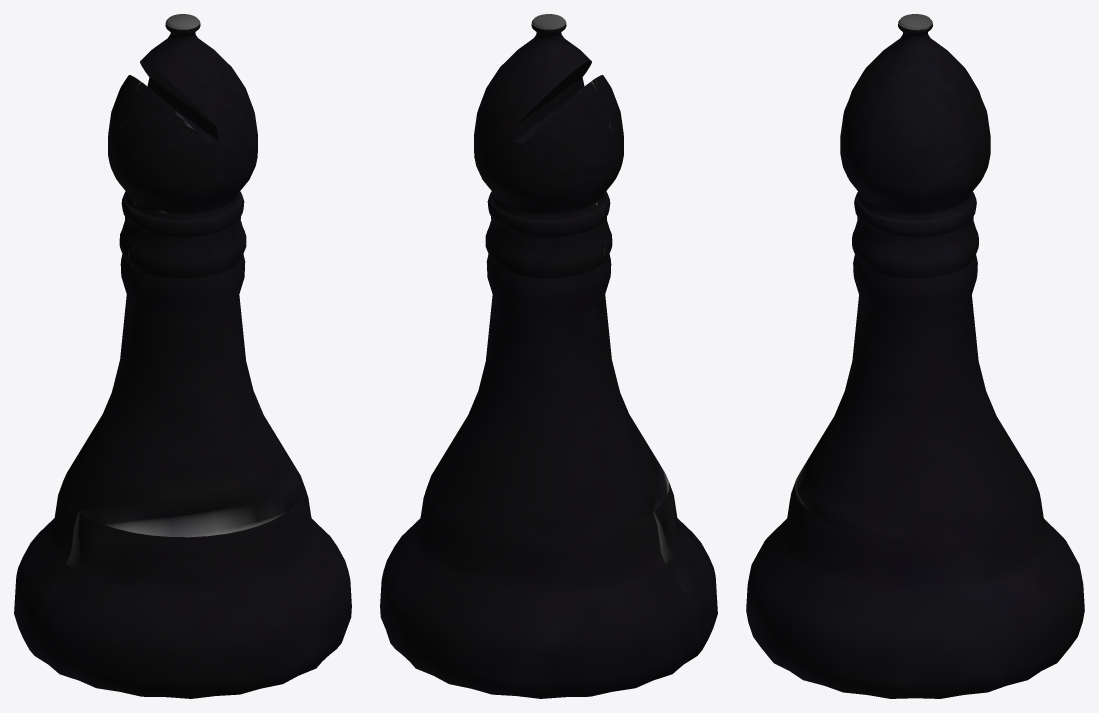
The model's file is alfil_Negras.glb.
3 views of the same model, side by side, from view 1: azimuth 30°, elevation 25°; view 2: azimuth 150°, elevation 25°; view 3: azimuth 270°, elevation 25° (orthographic).
Visible parts, largest first — view 1: defaultMaterial.024; view 2: defaultMaterial.024; view 3: defaultMaterial.024.
Part boxes in pixels (left/top/right/bottom): defaultMaterial.024: left=14, top=14, right=351, bottom=698; defaultMaterial.024: left=380, top=14, right=717, bottom=698; defaultMaterial.024: left=746, top=14, right=1084, bottom=698.
Size of the model in its own units: 0.8321 by 1.67 by 0.8321.
Materials: 1 (1 with a texture image).
